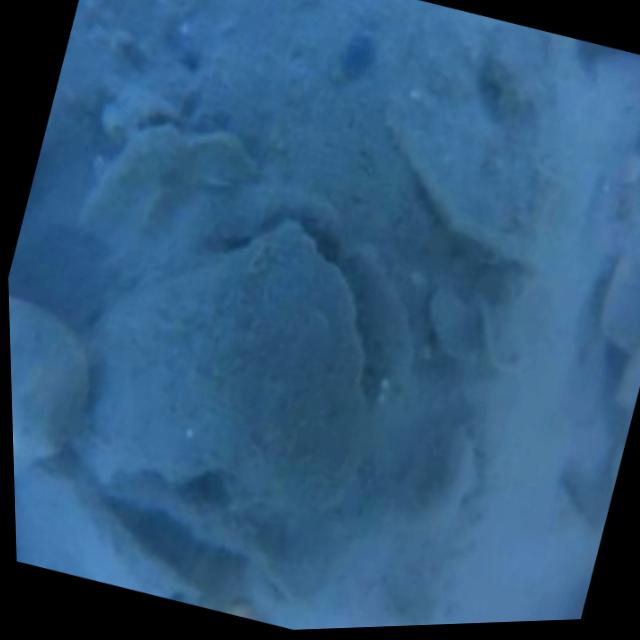Oyster-Indeterminate: (67, 223, 359, 518), (9, 294, 82, 472)
